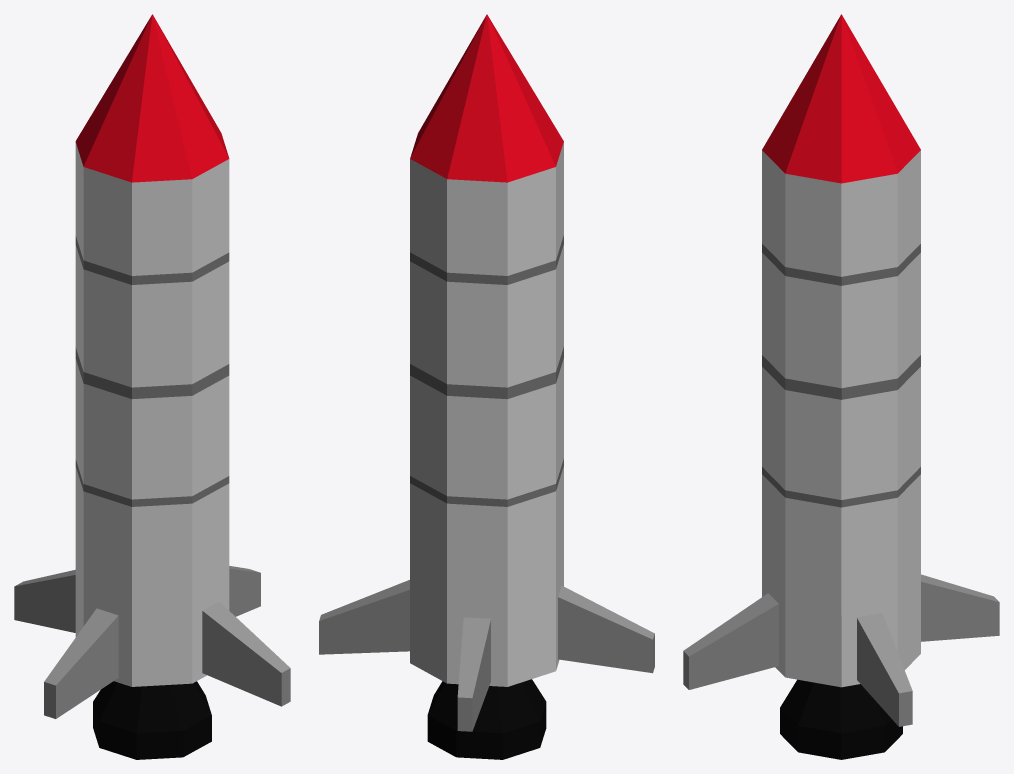
The model's file is rocket.fbx.
3 renders of one model, left to right at view 1: azimuth 30°, elevation 25°; view 2: azimuth 150°, elevation 25°; view 3: azimuth 270°, elevation 25°, orthographic.
Parts seen in each view (by area): view 1: Circle; view 2: Circle; view 3: Circle.
Part boxes in pixels (<box>): Circle: <box>14,14,290,759</box>; Circle: <box>319,14,654,759</box>; Circle: <box>683,14,999,759</box>.
Size of the model in its own units: 398 by 998 by 398.
